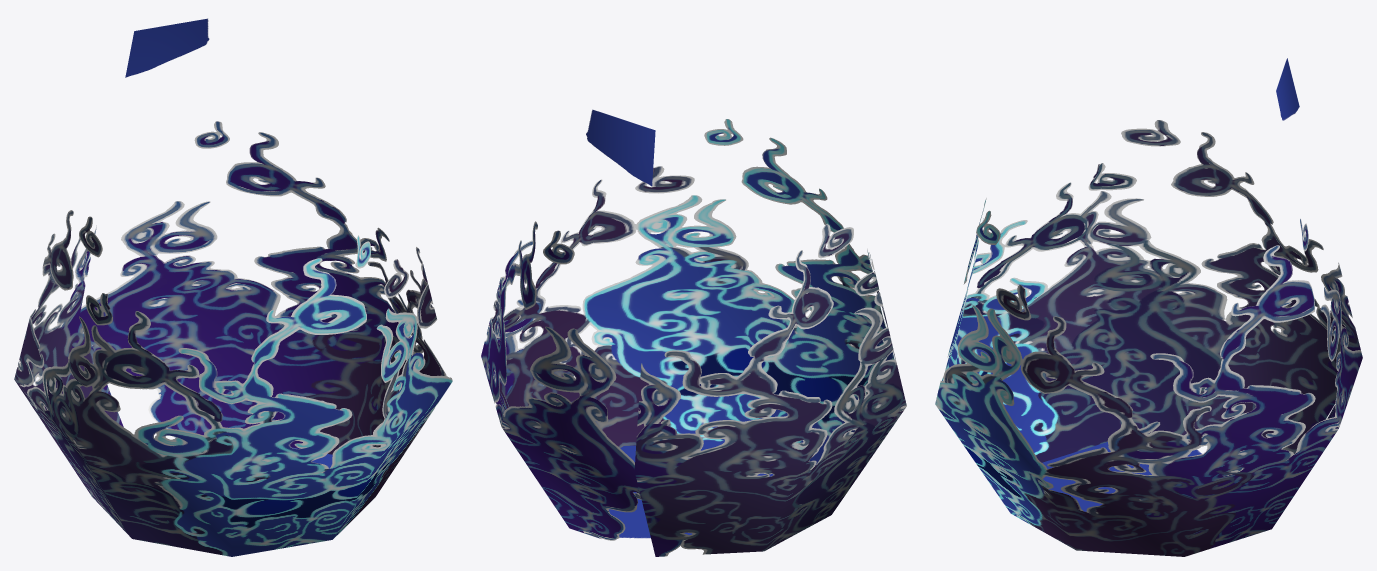
The model's file is TsurubebiV2.FBX.
3 views of the same model, side by side, from view 1: azimuth 30°, elevation 25°; view 2: azimuth 150°, elevation 25°; view 3: azimuth 270°, elevation 25° (orthographic).
Visible parts, largest first — view 1: Cylinder002; view 2: Cylinder002; view 3: Cylinder002.
Part boxes in pixels (x1=…): Cylinder002: x1=14, y1=18, x2=452, y2=556; Cylinder002: x1=481, y1=109, x2=906, y2=556; Cylinder002: x1=935, y1=58, x2=1362, y2=556.
Size of the model in its own units: 68.77 by 75.59 by 68.77.
